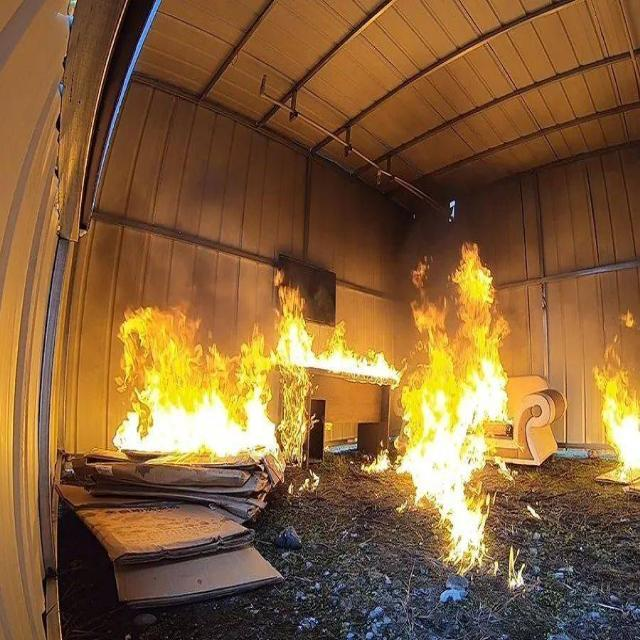Fire: (399, 248, 516, 564), (112, 312, 278, 458), (273, 286, 391, 376), (592, 355, 640, 473)
